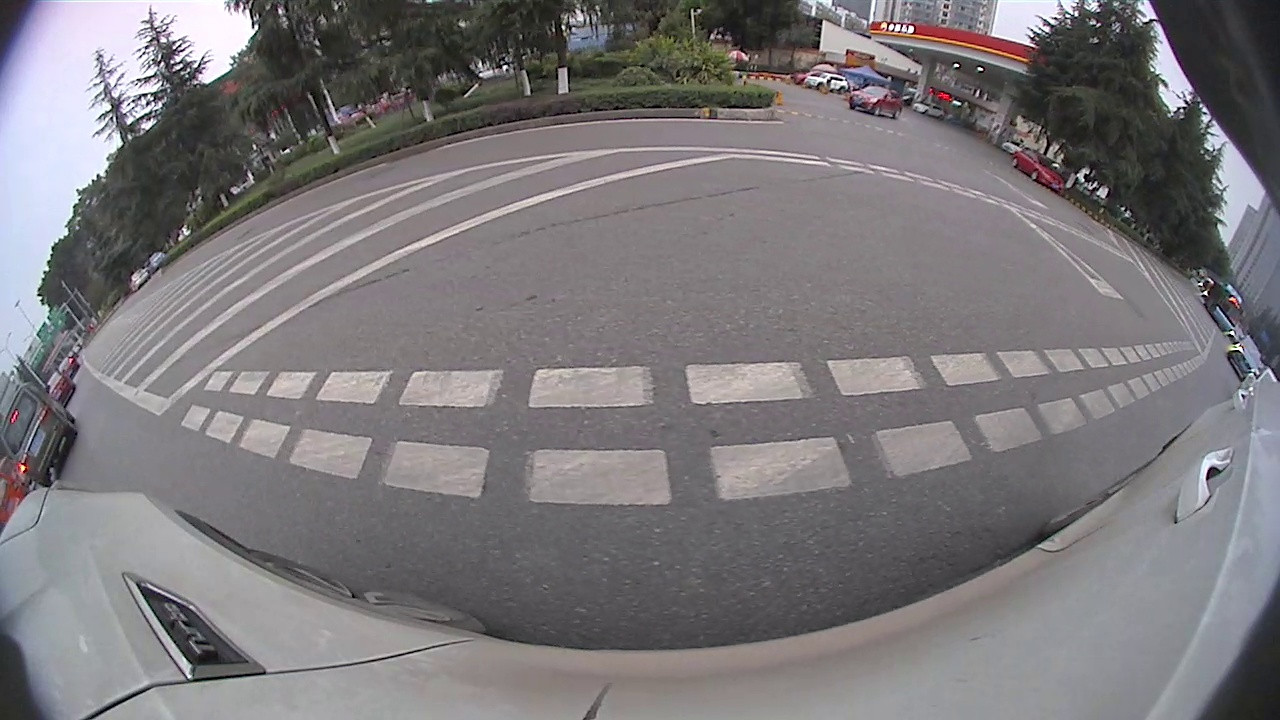bus: (1205, 275, 1247, 335)
car: (0, 376, 82, 489), (1008, 145, 1068, 197), (845, 81, 909, 120), (1225, 329, 1267, 384)
front: (874, 104, 882, 115)
